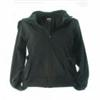felpa: (10, 11, 88, 90)
